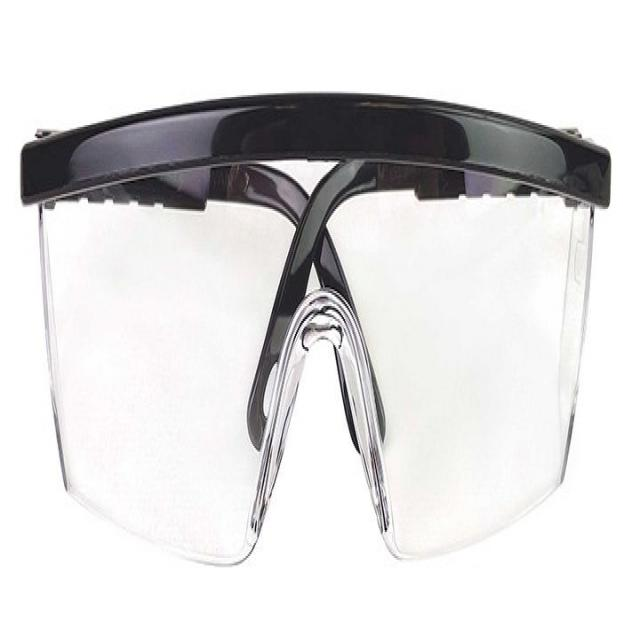Protective Glasses: (6, 19, 630, 598)
